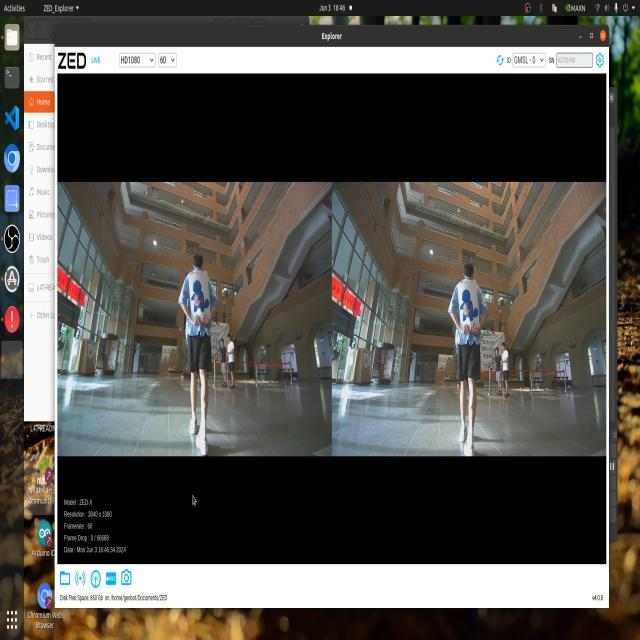blue: (450, 277, 482, 331), (187, 271, 211, 332)
